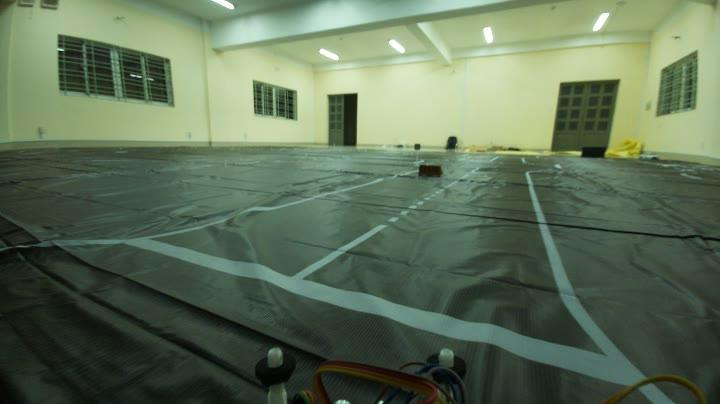roadblock: (416, 159, 446, 183)
